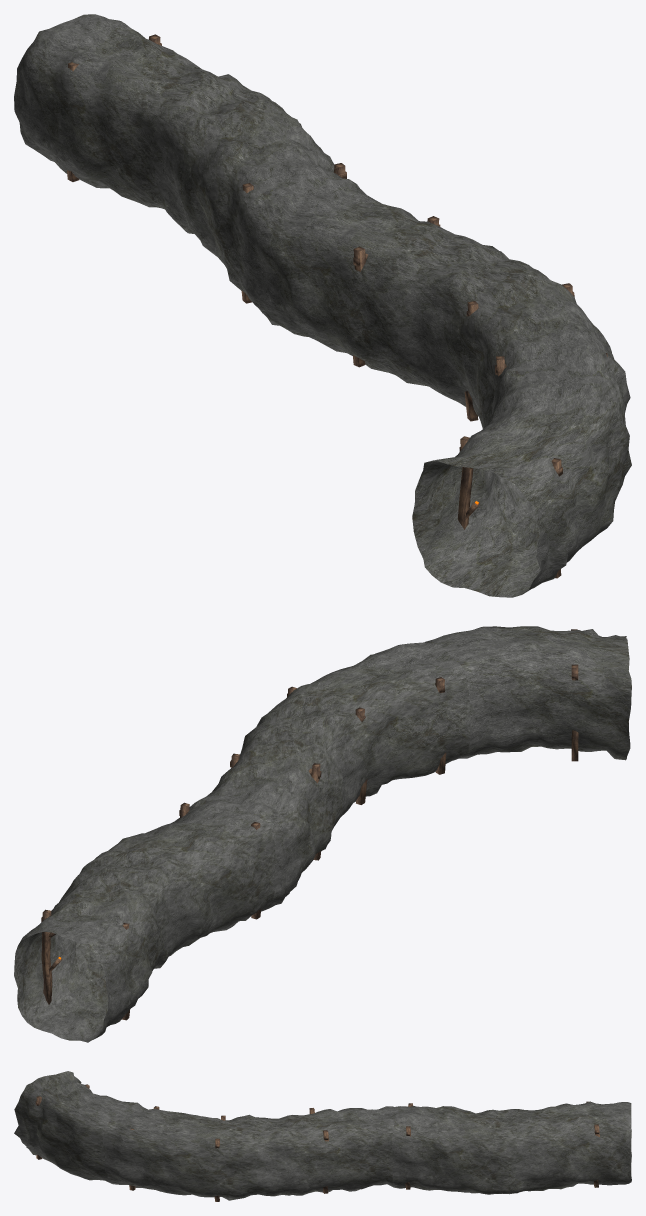
Rendered from cave.gltf.
3 views of the same model, one above another, from view 1: azimuth 30°, elevation 25°; view 2: azimuth 150°, elevation 25°; view 3: azimuth 270°, elevation 25° (orthographic). The views are drawn at different scales.
Parts seen in each view (by area): view 1: Cube026, Cube064, Cube074; view 2: Cube026, Cube001, Cube064; view 3: Cube026, Cube064.
Part boxes in pixels (x1,y1,x2,y2): Cube026: (14,14,631,597); Cube064: (353,216,574,421); Cube074: (457,436,562,578); Cube026: (14,626,631,1042); Cube001: (41,909,130,1020); Cube064: (230,686,367,860); Cube026: (14,1071,631,1200); Cube064: (214,1108,328,1201).
Bounding box in the file's own units: 2512 × 1144 × 8496.
3 materials, 2 textured.
